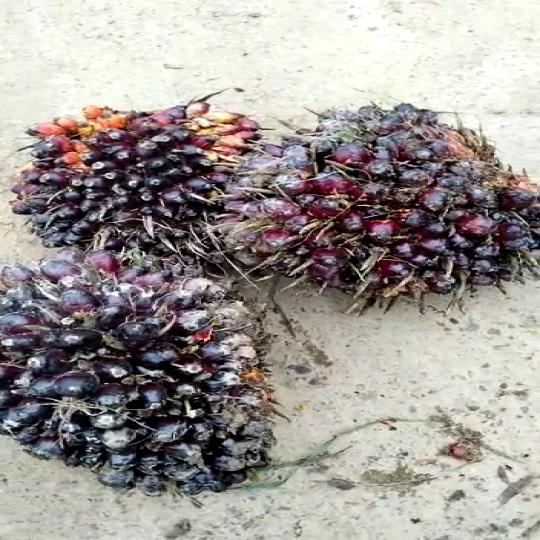kurang masak: (0, 259, 285, 504), (223, 87, 540, 304), (13, 98, 256, 272)
